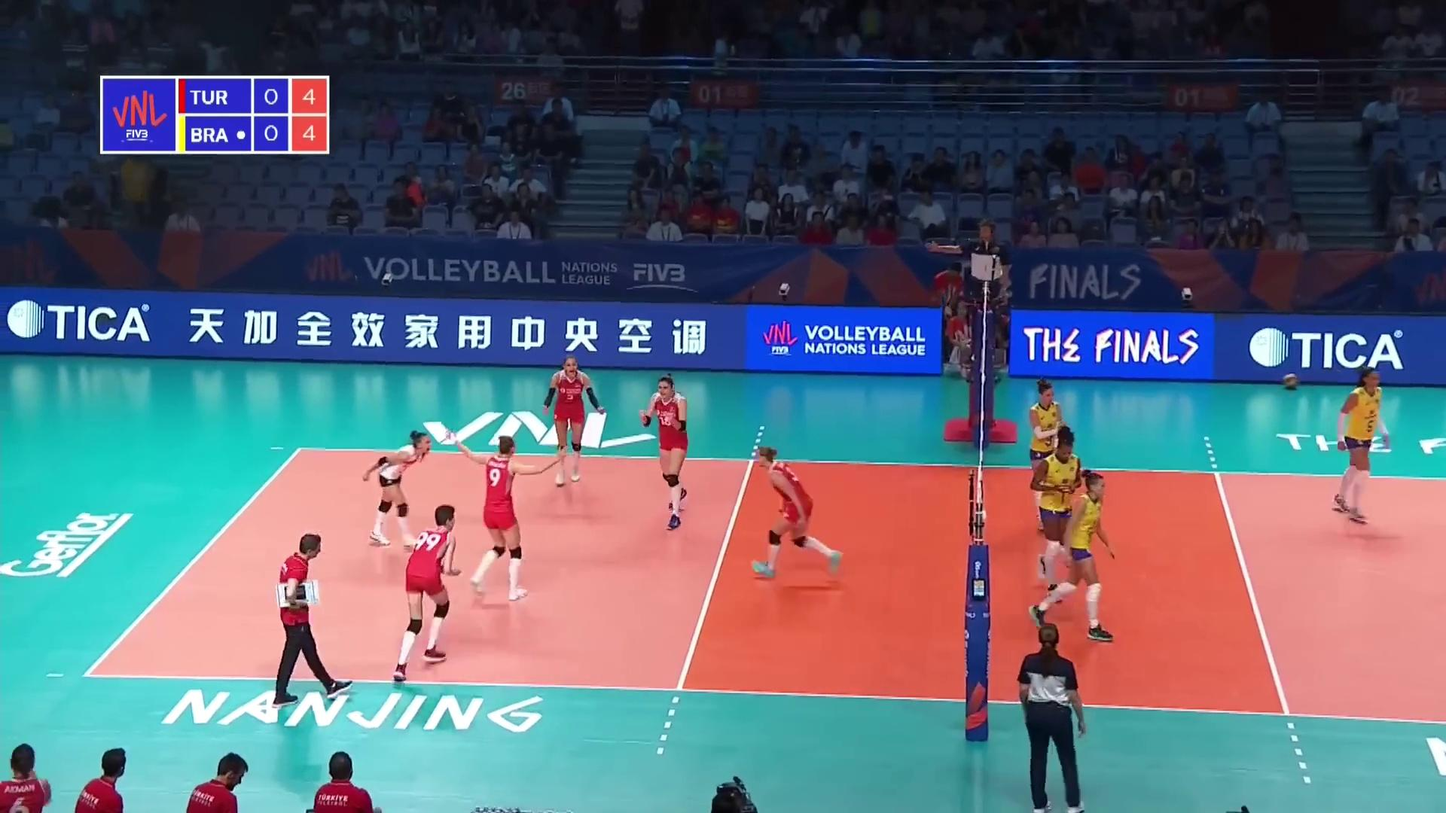player: (457, 426, 545, 601), (1030, 469, 1118, 643), (749, 447, 844, 580), (392, 505, 462, 681), (1029, 428, 1083, 597), (1331, 370, 1388, 528), (365, 429, 435, 549), (640, 377, 691, 529), (545, 355, 604, 486), (1026, 378, 1067, 532)
refree: (1018, 622, 1084, 811), (941, 219, 1008, 355)
